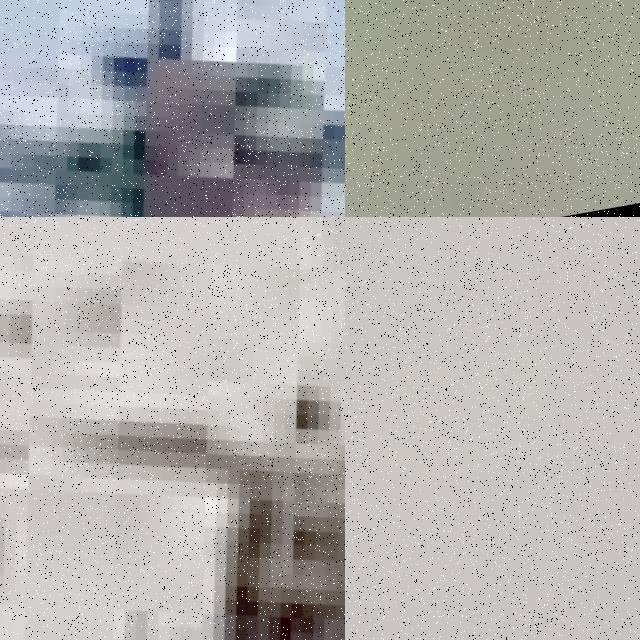drone: (0, 217, 345, 640), (0, 0, 345, 217), (345, 0, 640, 217)
